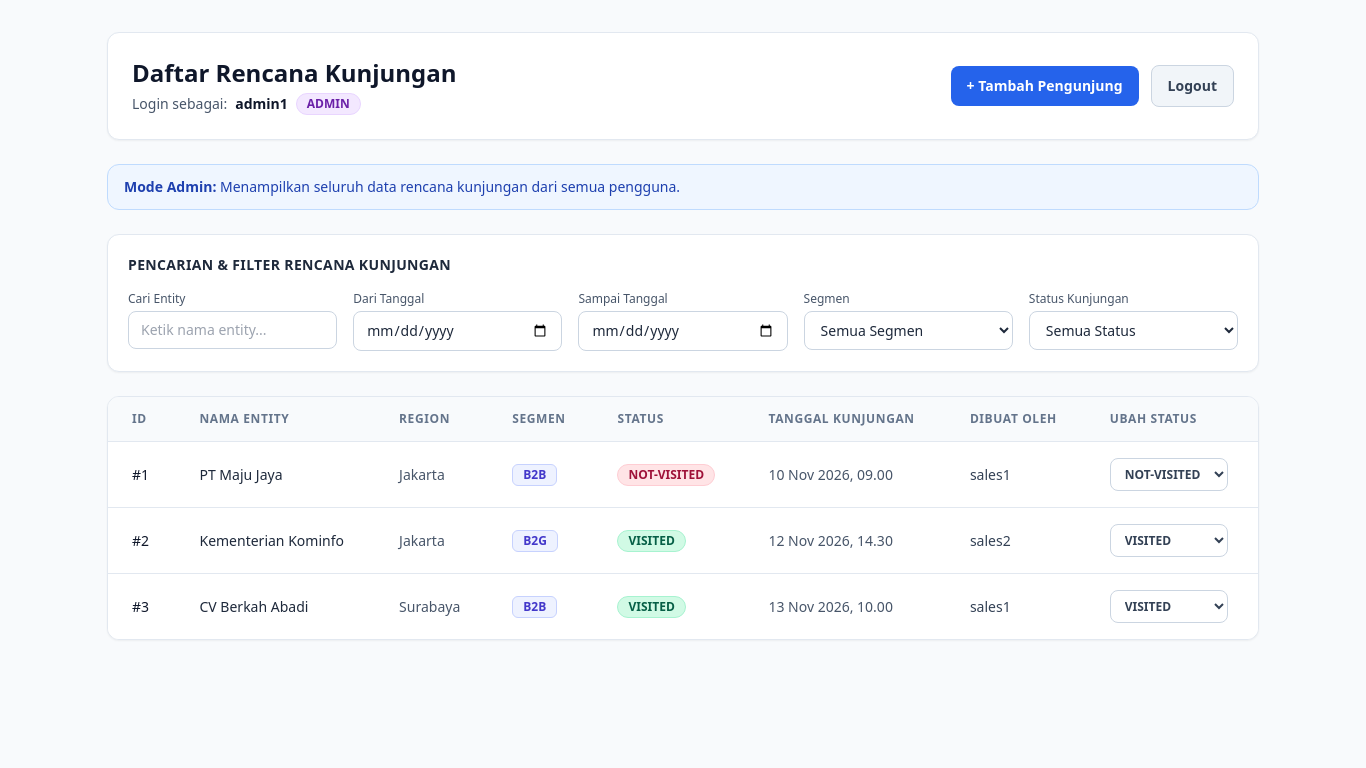
it: PengunjungPage (Halaman Daftar Rencana Kunjungan) › 3. Filter Segmen, Status Kunjungan, dan Range Tanggal › memfilter data ketika user memilih opsi pada dropdown Segmen (B2G)
Check: the text "PT Maju Jaya" is shown, box [176,442,375,508]
// Pilih opsi B2G pada dropdown Segmen menggunakan getByLabelText
Select "B2G" in the dropdown labelled "Segmen" at (908, 330), box [804,311,1013,350]
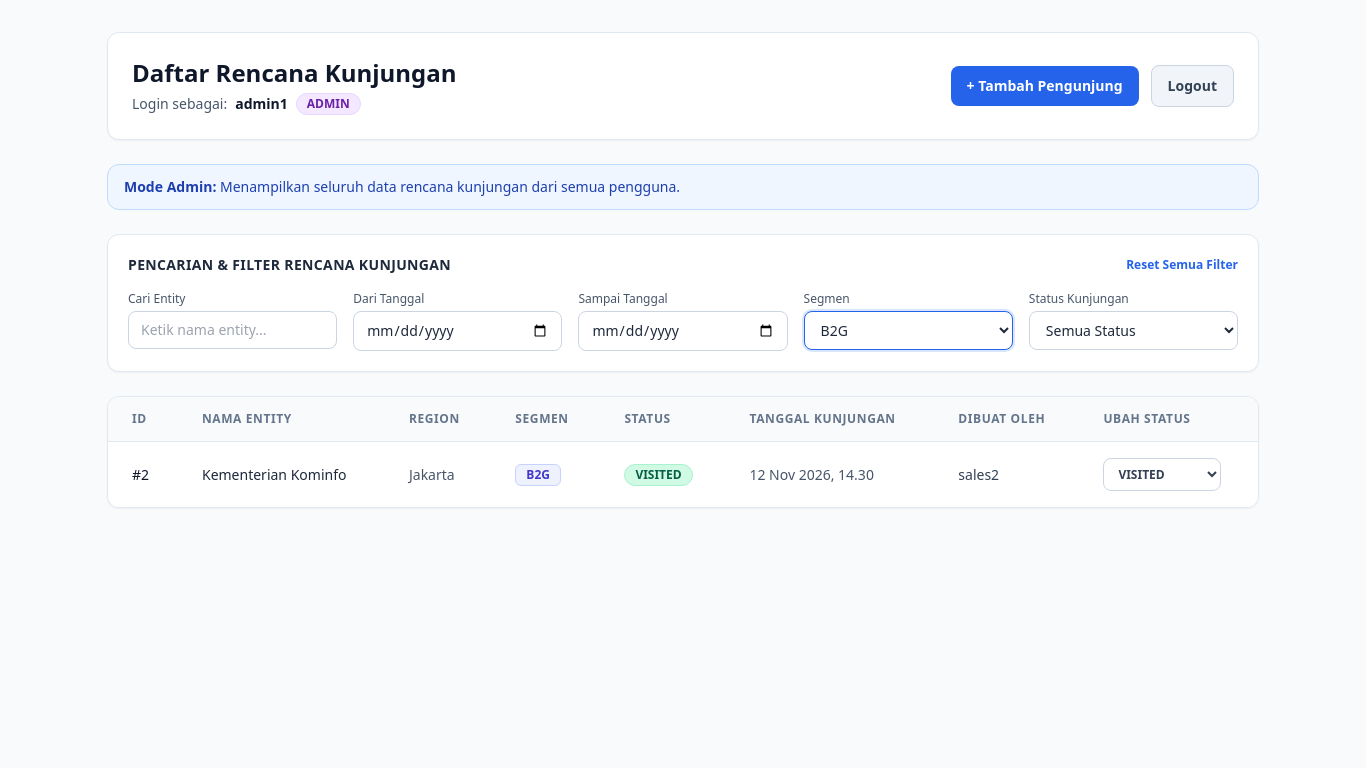
Check: the text "Kementerian Kominfo" is shown, box [178,442,385,507]
Check: the text "PT Maju Jaya" is gone
